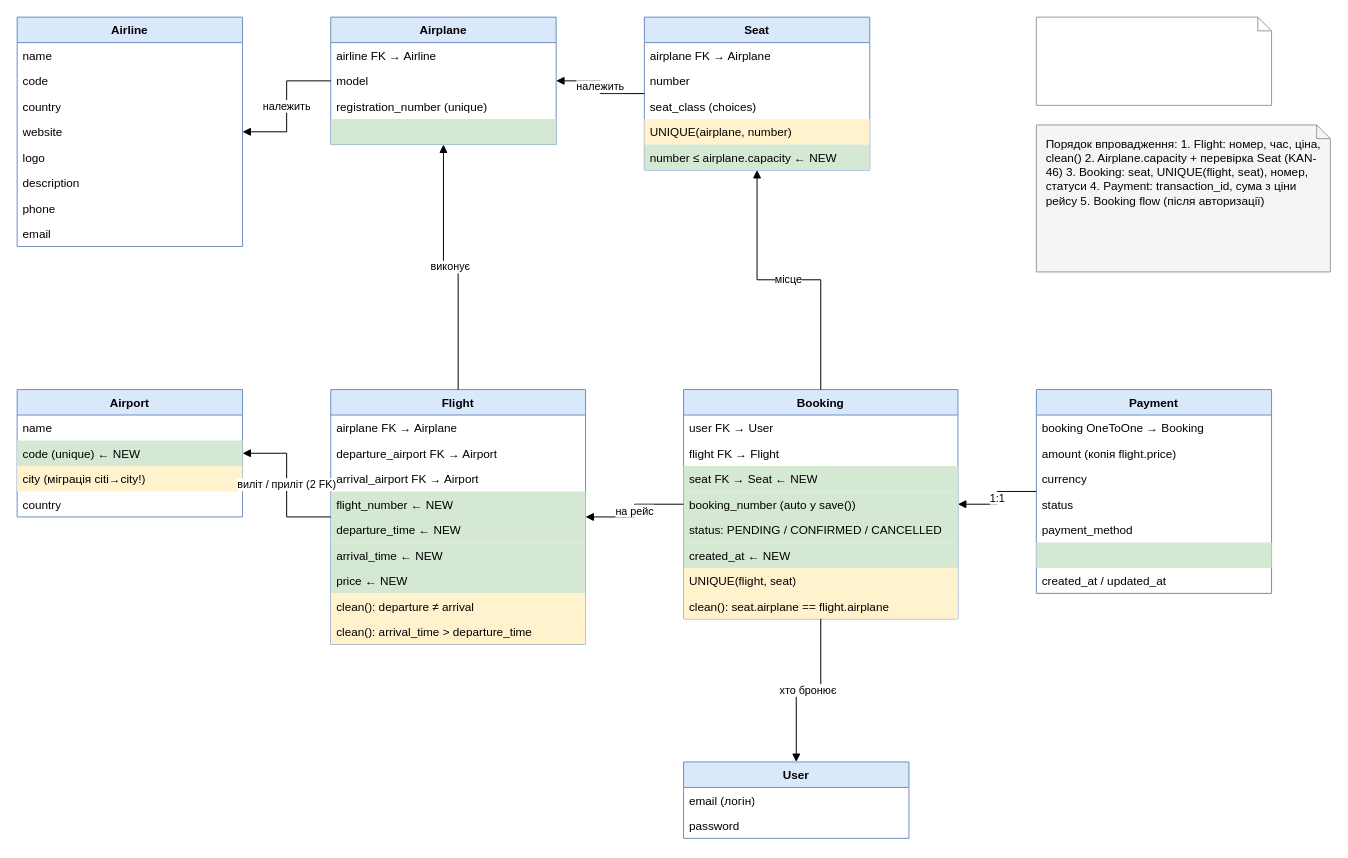
The diagram is 1348 pixels wide and 858 high, and some of its shapes have lost their labels. Here are the shapes that lost their labels. From the top down, the centre of each, then its label:
the point at 1153,60: Легенда: 🟦 модель 🟩 нове поле / логіка 🟨 правило або обмеження
the point at 443,131: capacity ← NEW
the point at 1153,554: transaction_id (auto, unique)
